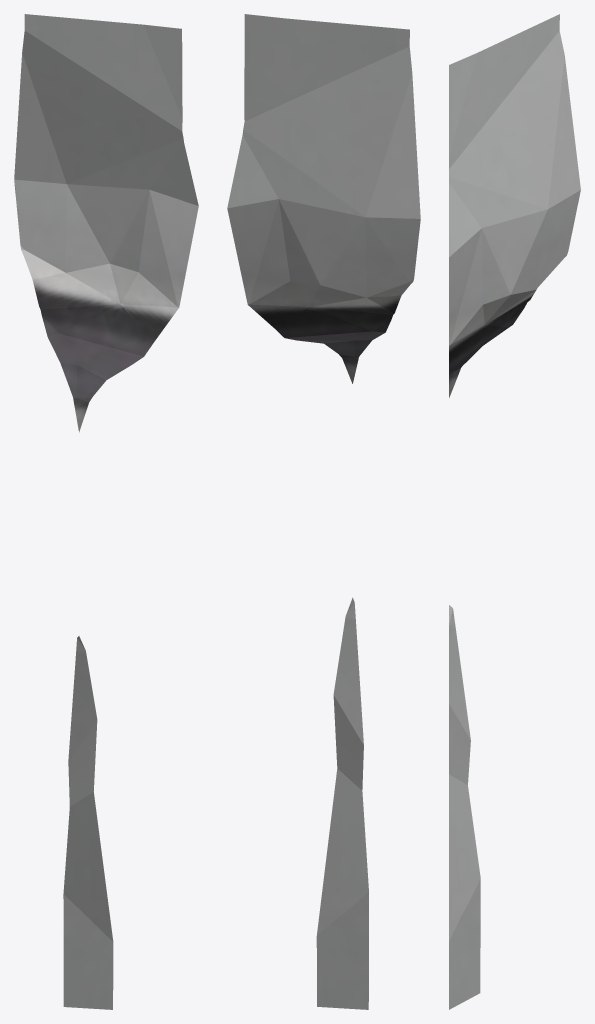
3 views of the same model, side by side, from view 1: azimuth 30°, elevation 25°; view 2: azimuth 210°, elevation 25°; view 3: azimuth 270°, elevation 25° (orthographic). The views are drawn at different scales.
Size of the model in its own units: 0.1088 by 0.8374 by 0.1022.
Materials: 1 (1 with a texture image).
